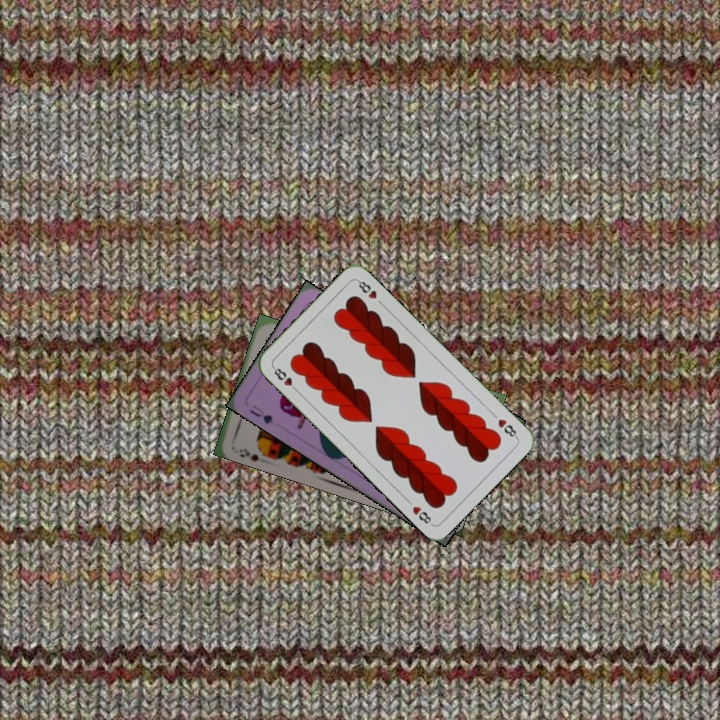GU: (245, 401, 276, 427)
H8: (269, 363, 301, 395), (494, 415, 520, 441)
S9: (235, 444, 271, 460)
